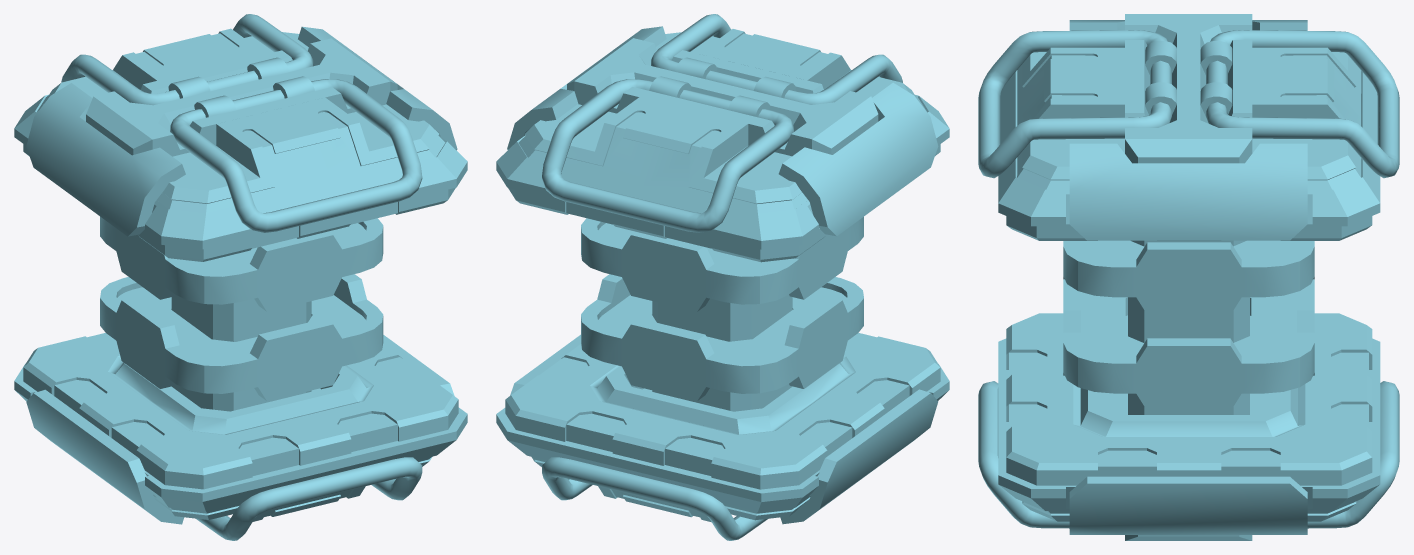
Rendered from obj_interactive_gravelcollector.fbx.
3 renders of one model, left to right at view 1: azimuth 30°, elevation 25°; view 2: azimuth 150°, elevation 25°; view 3: azimuth 270°, elevation 25°, orthographic. The views are drawn at different scales.
Visible parts, largest first — view 1: part4_lp.002, part7_lp; view 2: part4_lp.002, part7_lp; view 3: part4_lp.002, part7_lp.
Boxes of the visible parts, x1,y1,x2,y2 form: part4_lp.002: (14, 26, 467, 524); part7_lp: (36, 14, 445, 540); part4_lp.002: (496, 26, 949, 524); part7_lp: (518, 14, 926, 540); part4_lp.002: (998, 14, 1380, 540); part7_lp: (978, 30, 1399, 528).
Bounding box in the file's own units: 6.31 × 7.25 × 6.64.
